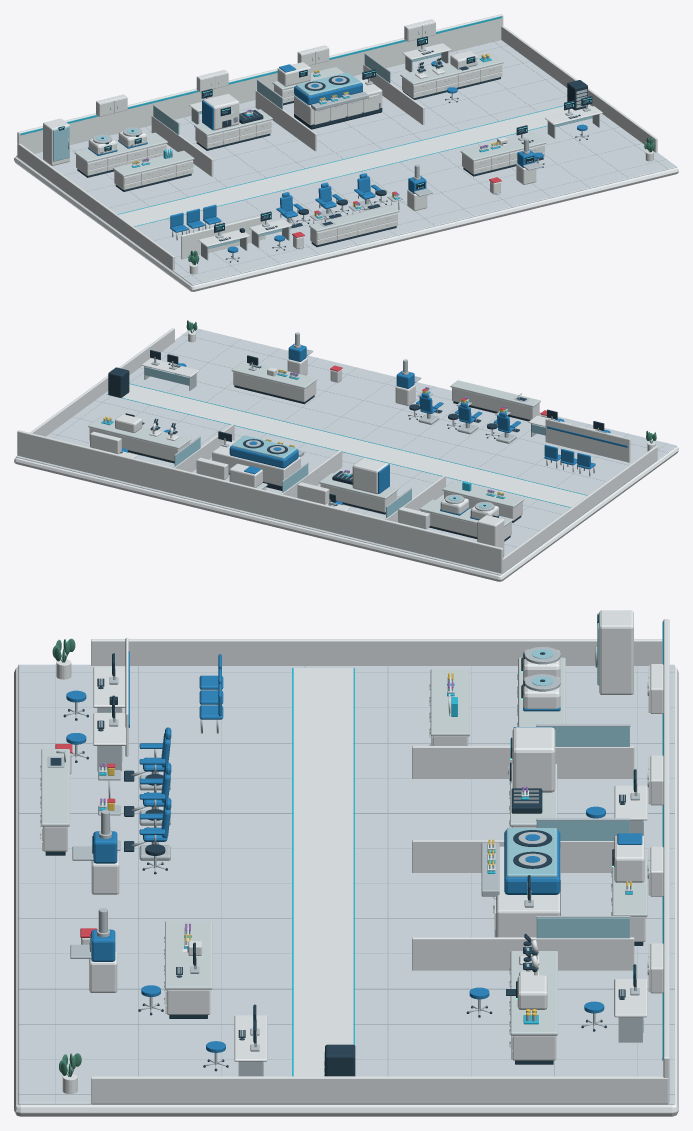
Rendered from lab-environment.glb.
The picture shows the model from 3 angles, top to bottom: view 1: azimuth 30°, elevation 25°; view 2: azimuth 150°, elevation 25°; view 3: azimuth 270°, elevation 25°; orthographic projection. The views are drawn at different scales.
Parts seen in each view (by area): view 1: Lab_Cabinet, Lab_Floor, Lab_Worktop, Lab_Brushed_stainless_steel, Lab_Clinical_blue, Lab_Instrument_dark_polymer, Lab_Frosted_blue_privacy_panel, Lab_Tile_joints, Lab_Cyan_equipment_trim, Lab_Instrument_display_glass; view 2: Lab_Cabinet, Lab_Floor, Lab_Worktop, Lab_Clinical_blue, Lab_Instrument_dark_polymer, Lab_Frosted_blue_privacy_panel, Lab_Brushed_stainless_steel, Lab_Tile_joints, Lab_Cyan_equipment_trim; view 3: Lab_Floor, Lab_Cabinet, Lab_Worktop, Lab_Brushed_stainless_steel, Lab_Clinical_blue, Lab_Frosted_blue_privacy_panel, Lab_Tile_joints, Lab_Instrument_dark_polymer, Lab_Cyan_equipment_trim.
Part boxes in pixels (x1=…): Lab_Cabinet: x1=14, y1=14, x2=678, y2=291; Lab_Floor: x1=16, y1=40, x2=676, y2=285; Lab_Worktop: x1=74, y1=52, x2=546, y2=231; Lab_Brushed_stainless_steel: x1=68, y1=29, x2=599, y2=260; Lab_Clinical_blue: x1=88, y1=61, x2=587, y2=252; Lab_Instrument_dark_polymer: x1=58, y1=36, x2=592, y2=262; Lab_Frosted_blue_privacy_panel: x1=53, y1=40, x2=592, y2=248; Lab_Tile_joints: x1=64, y1=42, x2=667, y2=282; Lab_Cyan_equipment_trim: x1=20, y1=16, x2=563, y2=226; Lab_Instrument_display_glass: x1=59, y1=37, x2=591, y2=231; Lab_Cabinet: x1=14, y1=328, x2=678, y2=581; Lab_Floor: x1=16, y1=328, x2=676, y2=575; Lab_Worktop: x1=88, y1=360, x2=540, y2=526; Lab_Clinical_blue: x1=122, y1=343, x2=627, y2=520; Lab_Instrument_dark_polymer: x1=108, y1=350, x2=606, y2=541; Lab_Frosted_blue_privacy_panel: x1=103, y1=367, x2=545, y2=518; Lab_Brushed_stainless_steel: x1=112, y1=332, x2=605, y2=511; Lab_Tile_joints: x1=25, y1=329, x2=667, y2=571; Lab_Cyan_equipment_trim: x1=101, y1=374, x2=587, y2=507; Lab_Floor: x1=18, y1=664, x2=674, y2=1104; Lab_Cabinet: x1=14, y1=610, x2=678, y2=1116; Lab_Worktop: x1=41, y1=657, x2=647, y2=1035; Lab_Brushed_stainless_steel: x1=40, y1=646, x2=648, y2=1076; Lab_Clinical_blue: x1=66, y1=651, x2=642, y2=1052; Lab_Frosted_blue_privacy_panel: x1=100, y1=613, x2=643, y2=1075; Lab_Tile_joints: x1=18, y1=664, x2=674, y2=1102; Lab_Instrument_dark_polymer: x1=45, y1=614, x2=643, y2=1076; Lab_Cyan_equipment_trim: x1=99, y1=621, x2=663, y2=1076.
Bounding box in the file's own units: 25.2 × 2.46 × 16.
